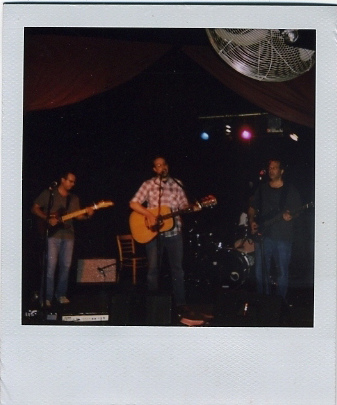without_mask: (265, 160, 288, 185), (149, 156, 172, 180), (55, 171, 78, 194)
